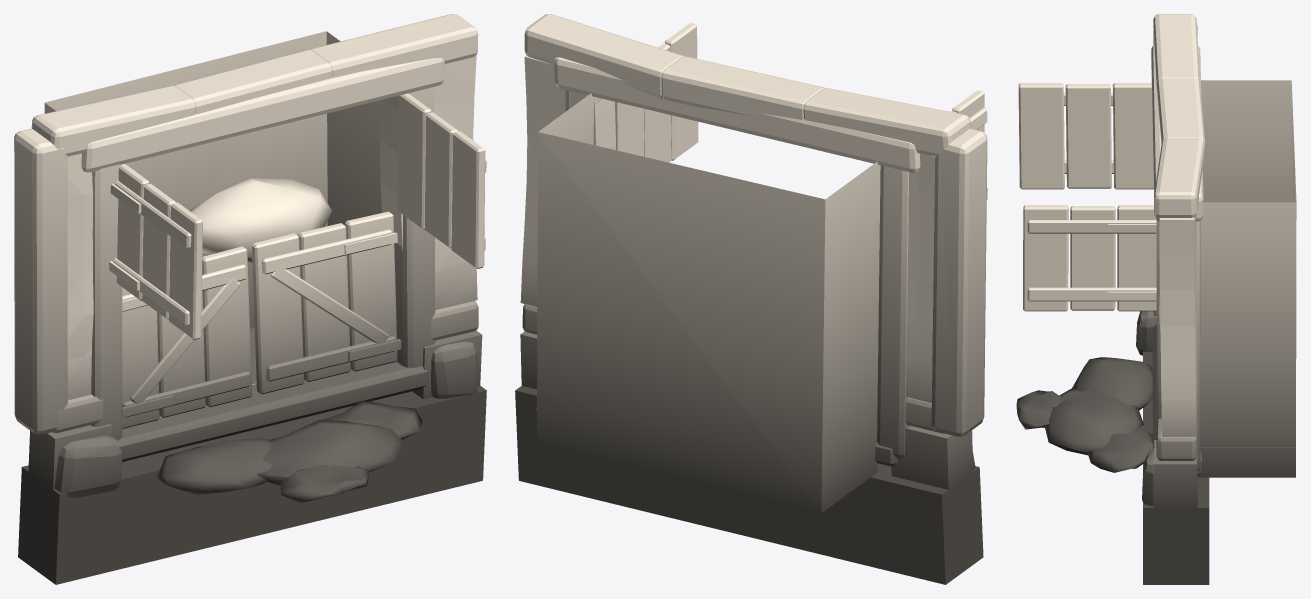
File: SM_VK_Wall_Wattle_Byre.fbx
3 views of the same model, side by side, from view 1: azimuth 30°, elevation 25°; view 2: azimuth 150°, elevation 25°; view 3: azimuth 270°, elevation 25° (orthographic). The views are drawn at different scales.
Parts seen in each view (by area): view 1: SM_VK_Wall_Wattle_Byre.001; view 2: SM_VK_Wall_Wattle_Byre.001; view 3: SM_VK_Wall_Wattle_Byre.001.
Part boxes in pixels (x1,y1,x2,y2): SM_VK_Wall_Wattle_Byre.001: [14, 14, 486, 584]; SM_VK_Wall_Wattle_Byre.001: [515, 14, 987, 584]; SM_VK_Wall_Wattle_Byre.001: [1016, 14, 1296, 584].
Size of the model in its own units: 3.13 by 3 by 1.94.
